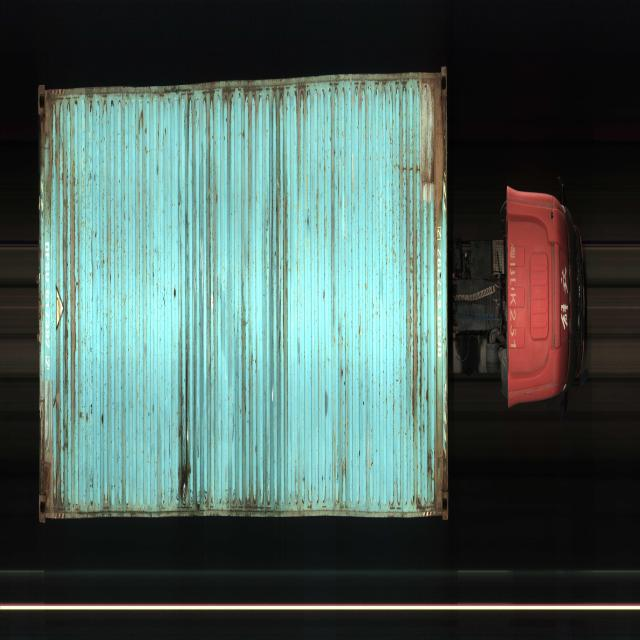rust: (64, 164, 79, 426), (406, 195, 421, 404), (433, 86, 448, 233), (43, 98, 63, 201), (435, 389, 449, 514), (42, 395, 57, 507)
